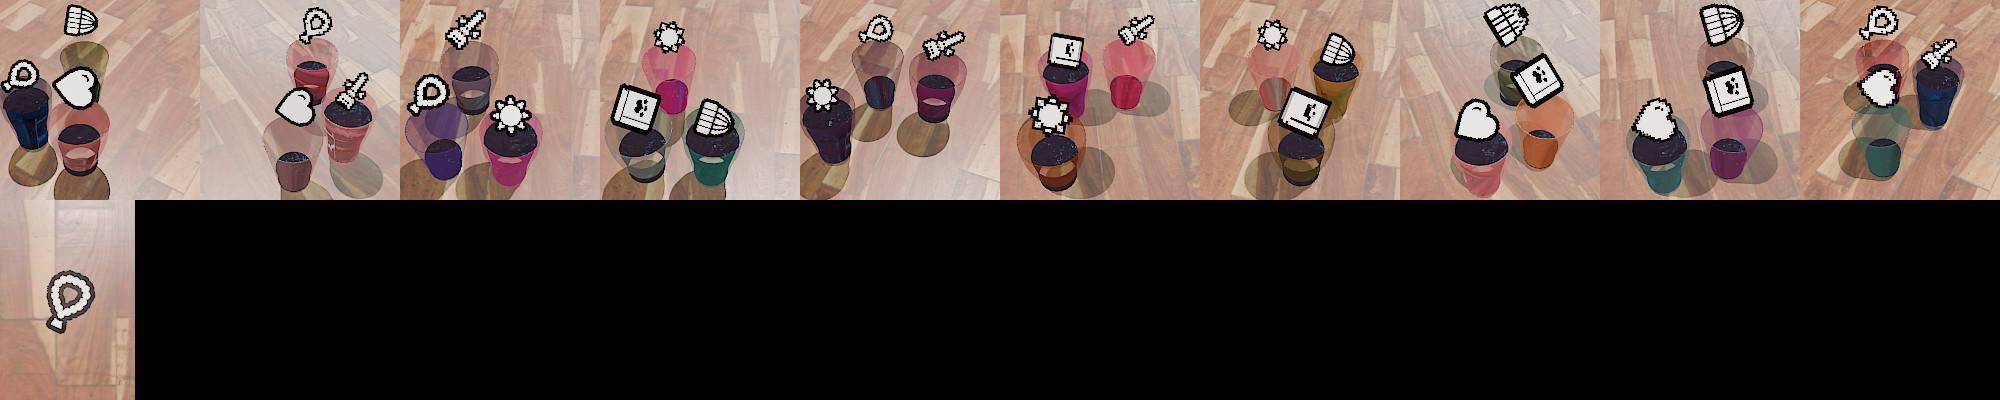icon: (43, 269, 94, 332), (1510, 54, 1566, 110), (1277, 85, 1330, 140), (1703, 64, 1755, 118), (610, 83, 662, 134), (1631, 96, 1680, 141), (1454, 96, 1501, 141), (51, 66, 99, 110), (1483, 3, 1528, 47), (1699, 3, 1745, 46), (487, 94, 534, 136), (1857, 62, 1901, 107), (408, 73, 453, 115), (444, 9, 487, 51), (1028, 96, 1071, 138), (273, 85, 318, 126), (691, 97, 733, 136), (1046, 32, 1085, 71), (298, 5, 333, 47), (922, 28, 966, 61), (1860, 5, 1899, 41), (334, 71, 370, 110), (1319, 32, 1355, 68), (805, 76, 842, 111), (1117, 13, 1154, 46), (1920, 38, 1957, 71), (4, 59, 41, 92), (64, 4, 98, 38), (857, 14, 894, 46), (653, 19, 686, 54), (1256, 18, 1288, 51)
